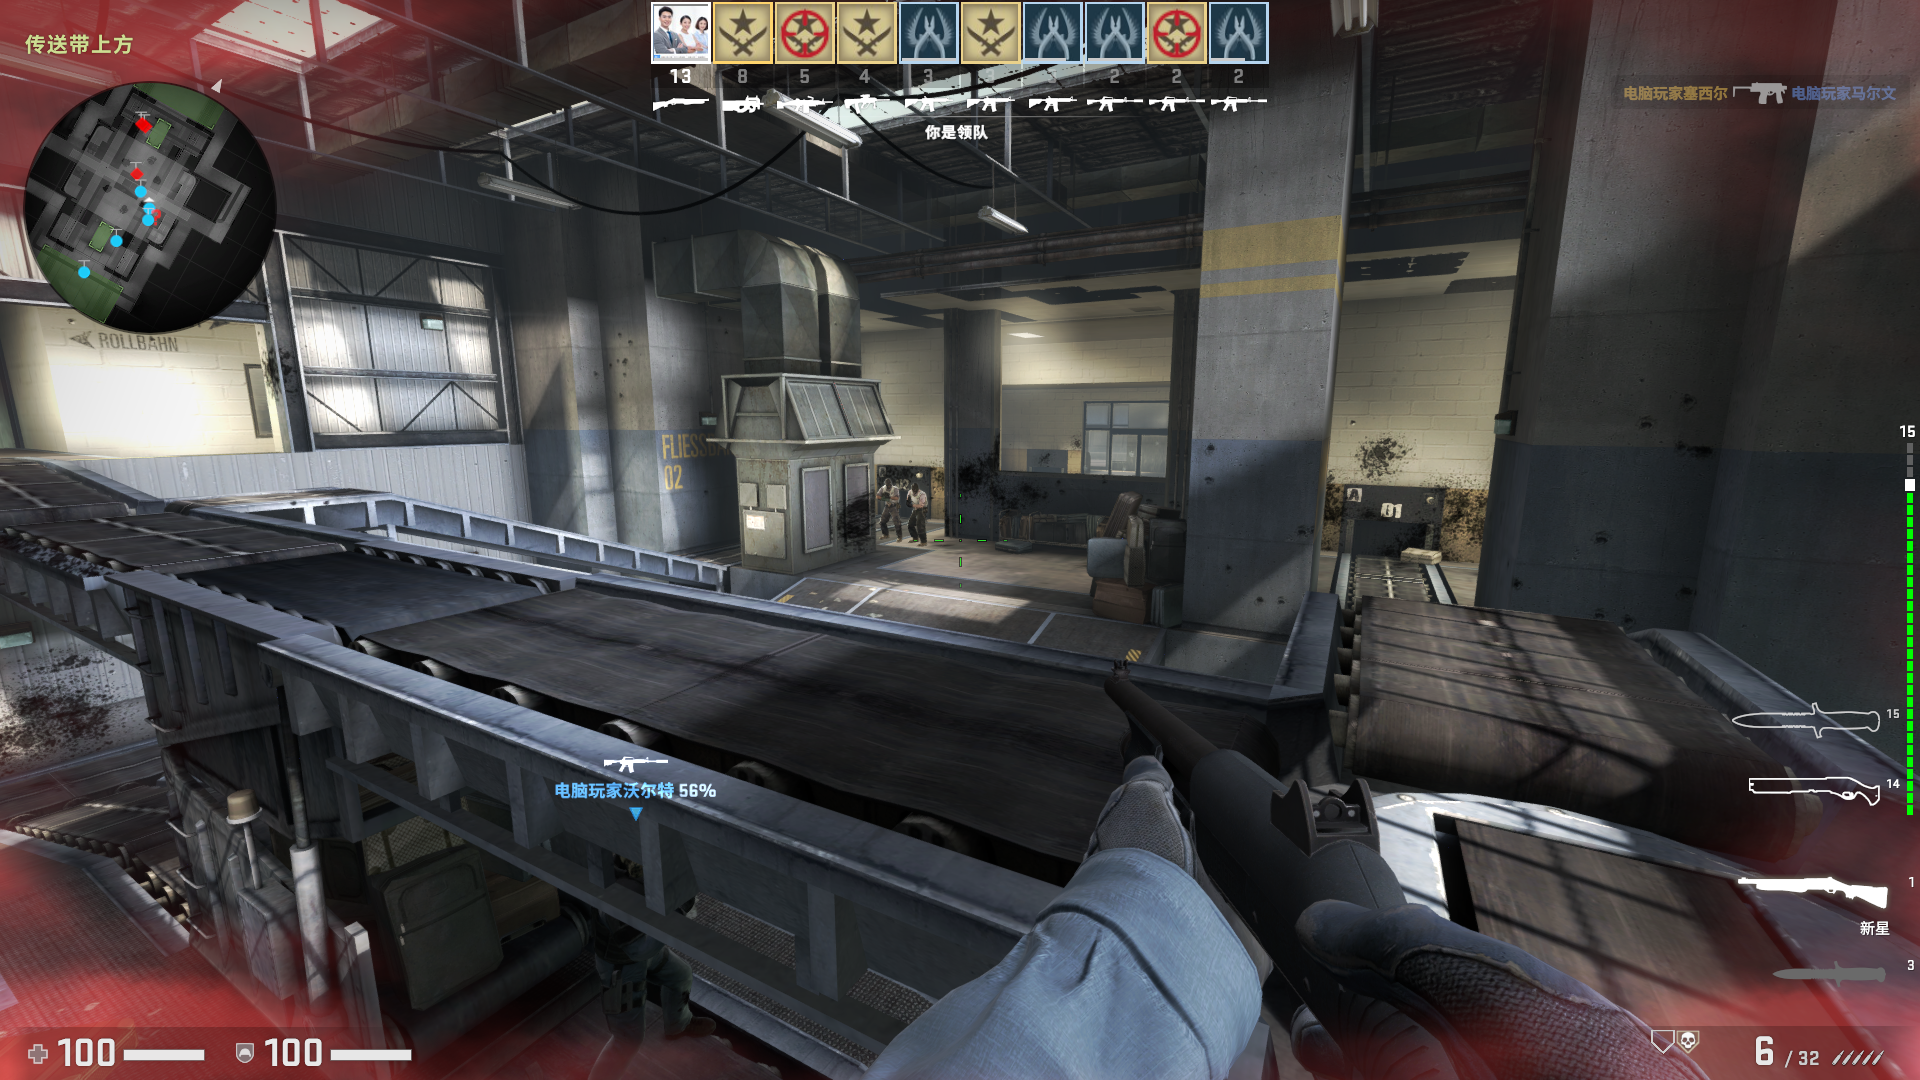person: (907, 478, 938, 549), (879, 477, 904, 540)
